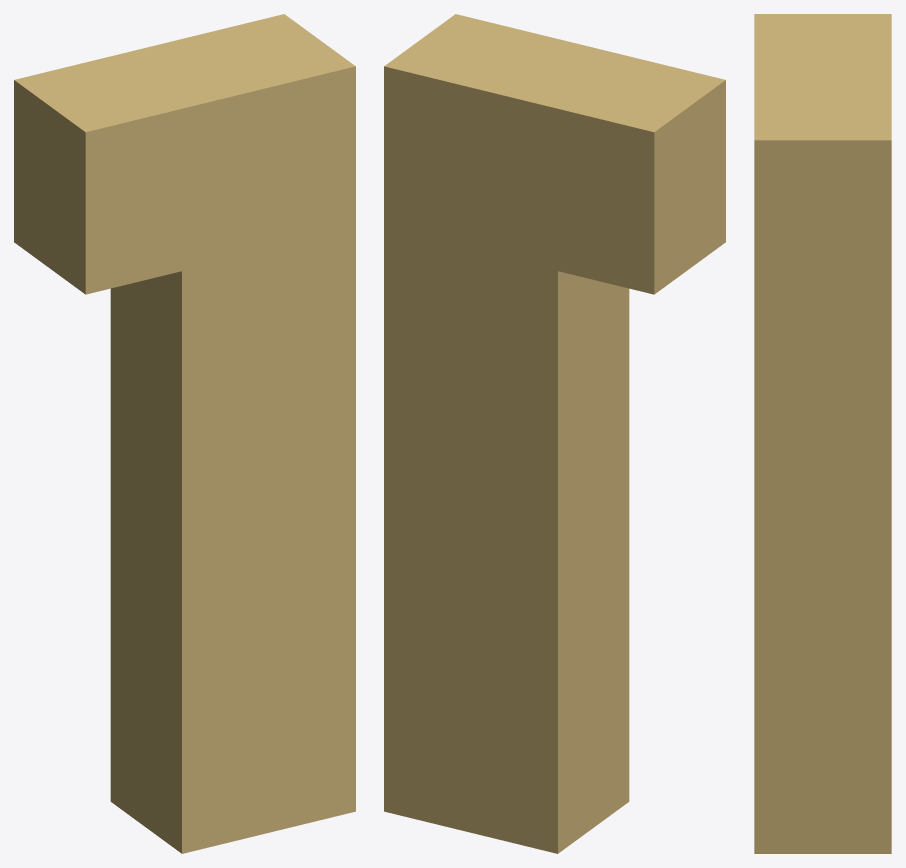
The model's file is kr_num_1.glb.
The picture shows the model from 3 angles, left to right: view 1: azimuth 30°, elevation 25°; view 2: azimuth 150°, elevation 25°; view 3: azimuth 270°, elevation 25°; orthographic projection. The views are drawn at different scales.
Parts seen in each view (by area): view 1: vc_m8_r2; view 2: vc_m8_r2; view 3: vc_m8_r2.
Boxes of the visible parts, x1,y1,x2,y2 form: vc_m8_r2: (14, 14, 355, 853); vc_m8_r2: (384, 14, 725, 853); vc_m8_r2: (754, 14, 891, 853).
Bounding box in the file's own units: 0.1308 × 0.3447 × 0.06.
